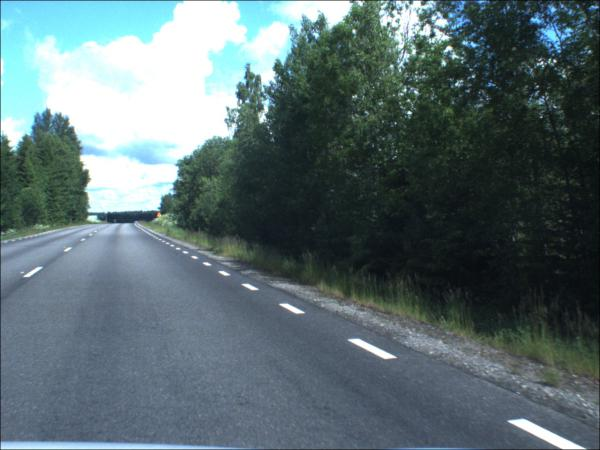WARNING: (158, 213, 164, 219)
